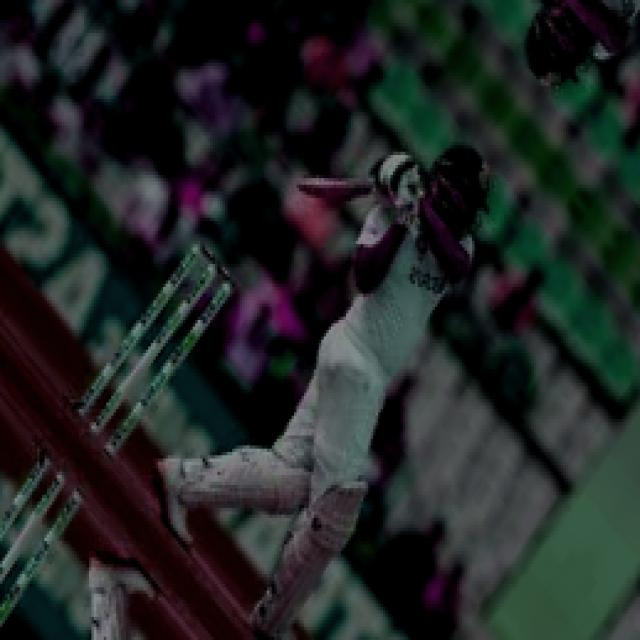toe: (293, 169, 324, 203)
